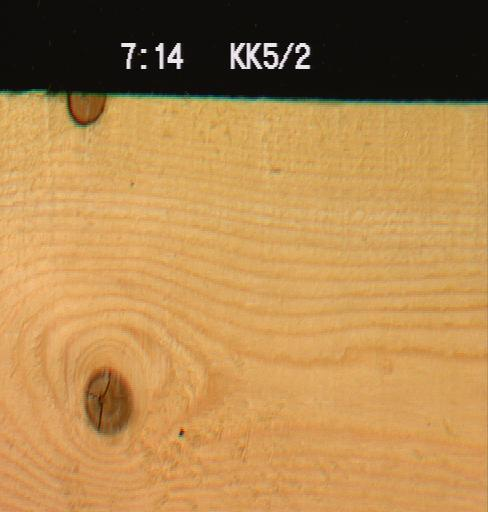sound_knot: (82, 366, 132, 434)
